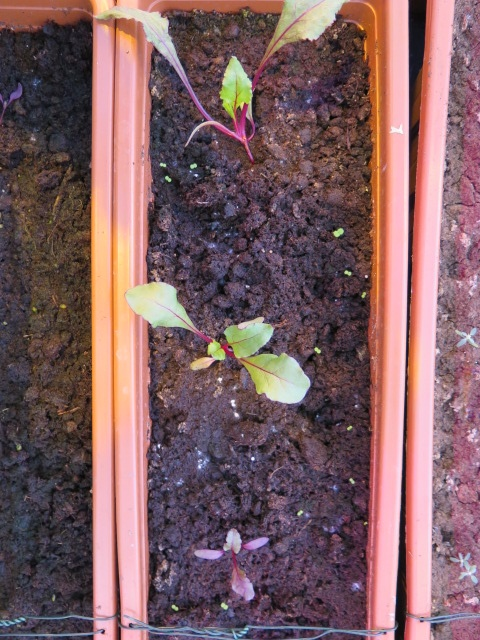weed: (330, 225, 346, 241), (356, 288, 369, 305), (217, 599, 231, 614), (168, 599, 181, 615), (312, 343, 323, 357), (188, 160, 200, 172), (346, 474, 356, 488), (341, 266, 353, 277), (344, 422, 355, 434), (295, 506, 305, 519), (162, 174, 172, 185), (156, 160, 168, 169)
